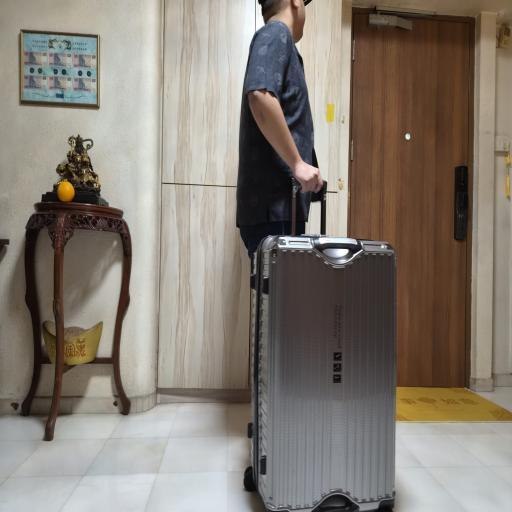person_right: (218, 0, 399, 504)
